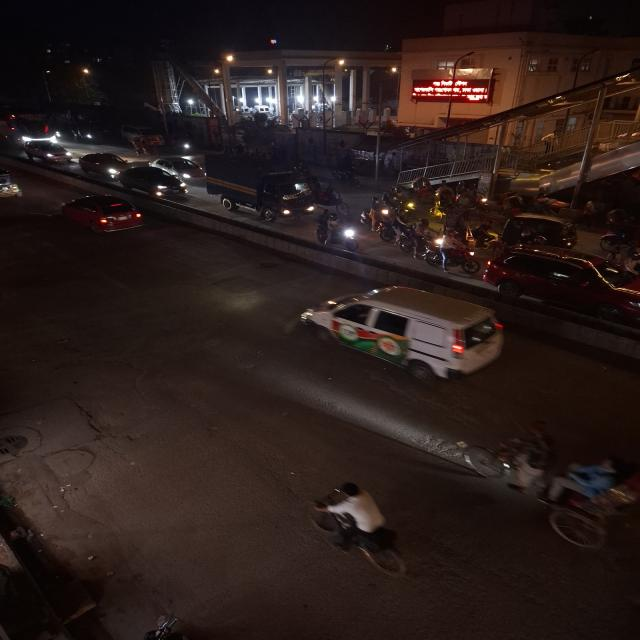bicycle: (303, 476, 417, 578)
bus: (3, 112, 59, 143)
car: (293, 284, 512, 383), (487, 244, 640, 334), (56, 193, 146, 237), (119, 166, 187, 196), (76, 151, 132, 178), (151, 153, 207, 179), (21, 140, 75, 166), (116, 123, 174, 147)
cng: (0, 160, 25, 202)
motorcycle: (132, 608, 191, 640), (312, 211, 361, 249), (424, 244, 480, 276), (398, 221, 443, 260)
rickshaw: (506, 415, 640, 554), (600, 207, 640, 258), (126, 138, 161, 158)
truck: (202, 153, 316, 221)
